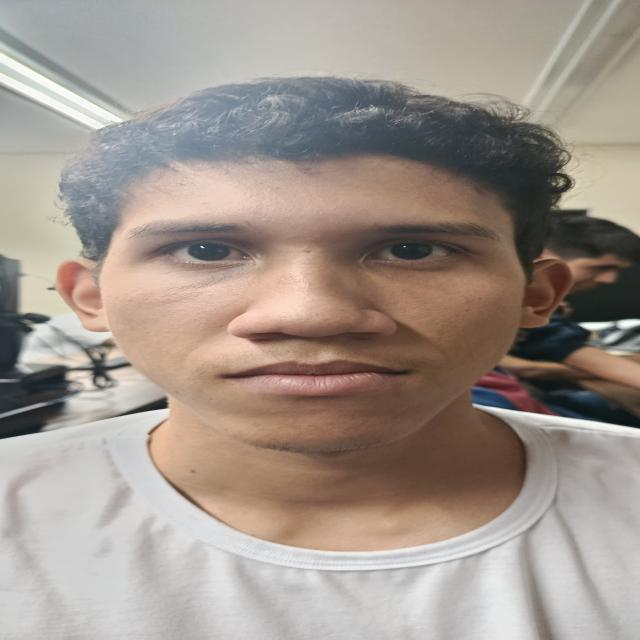sem_oculos: (45, 212, 583, 290)
